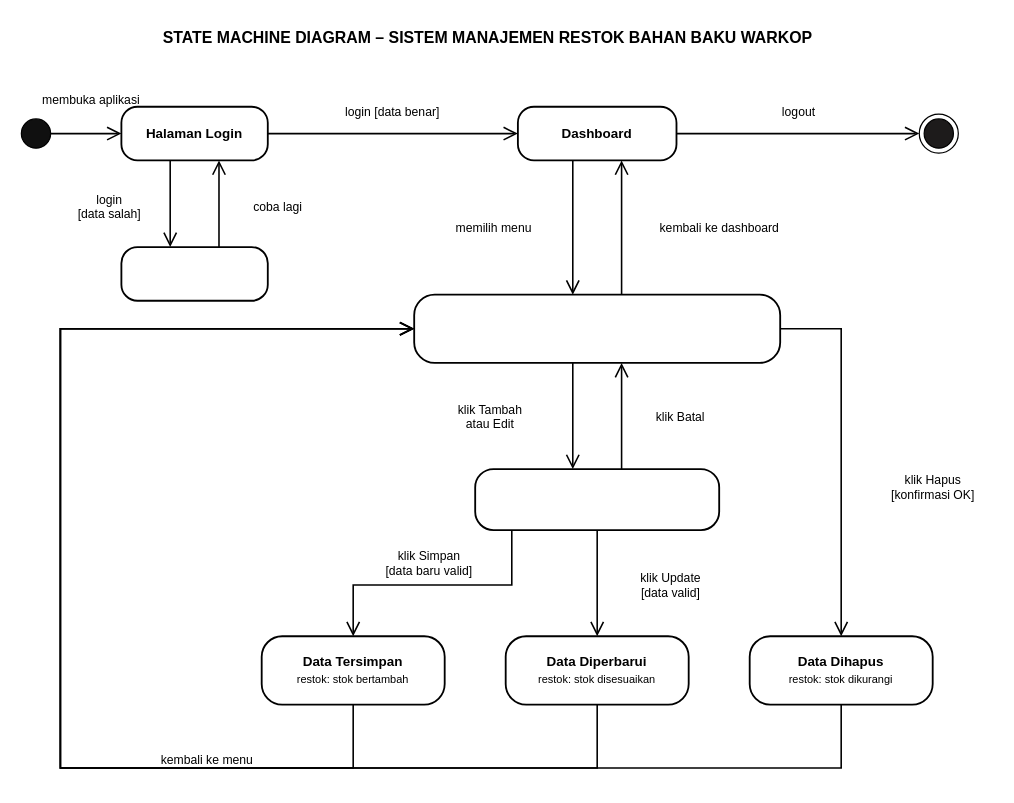
Some shapes in this 1014 by 803 pixel diagram are drawn without their labels. Each missing label, with the centre of its shape:
"Form Data Ditampilkan" goes at point (597, 499).
"Halaman Menu Data Bahan Baku / Supplier / Restok" goes at point (597, 328).
"Login Gagal" goes at point (194, 273).
